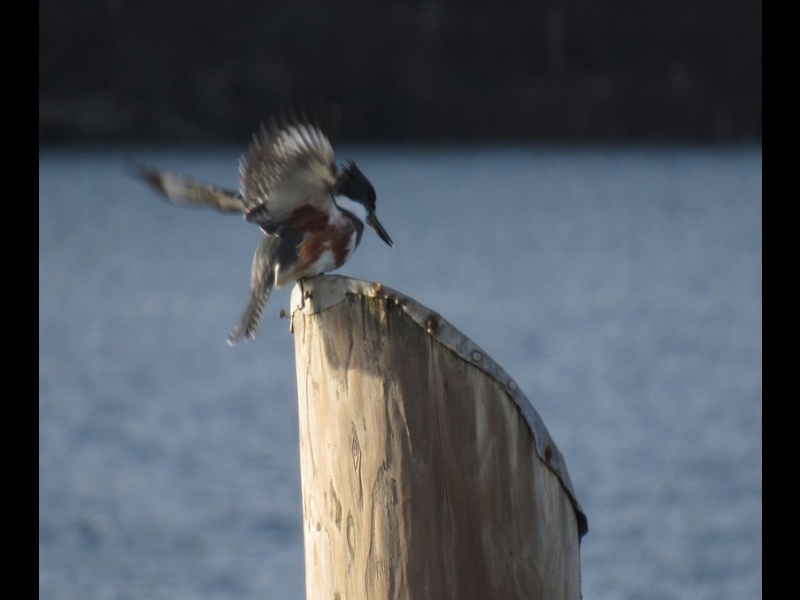kingfisher: (132, 123, 398, 350)
